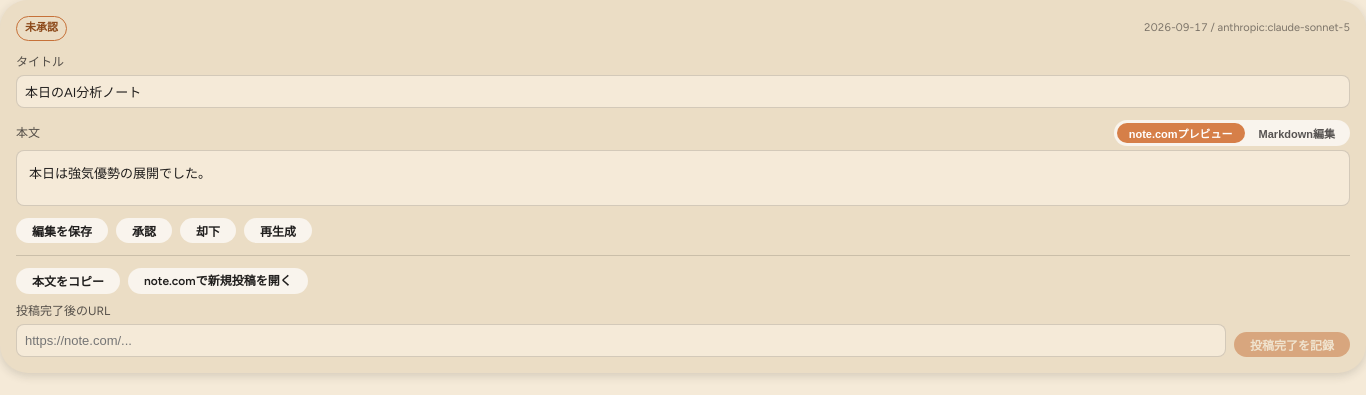
it: DailyNoteReview › 再生成ボタンで新しい下書きに置き換わる
Expected: the field showing "本日のAI分析ノート" is shown, [16, 74, 1350, 108]
Click the button "再生成" at (278, 230), box [244, 218, 312, 243]
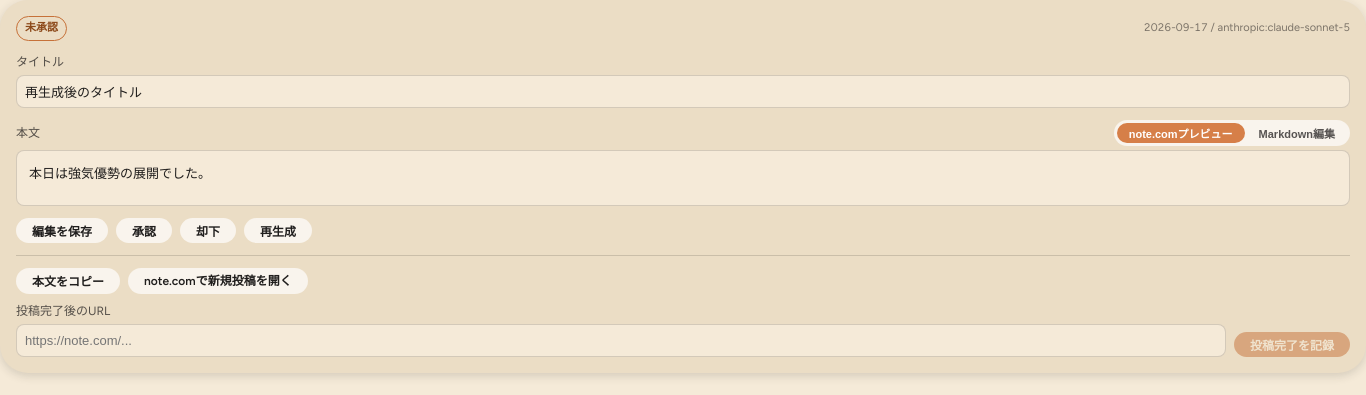
Result: the field showing "再生成後のタイトル" is shown at [16, 74, 1350, 108]
